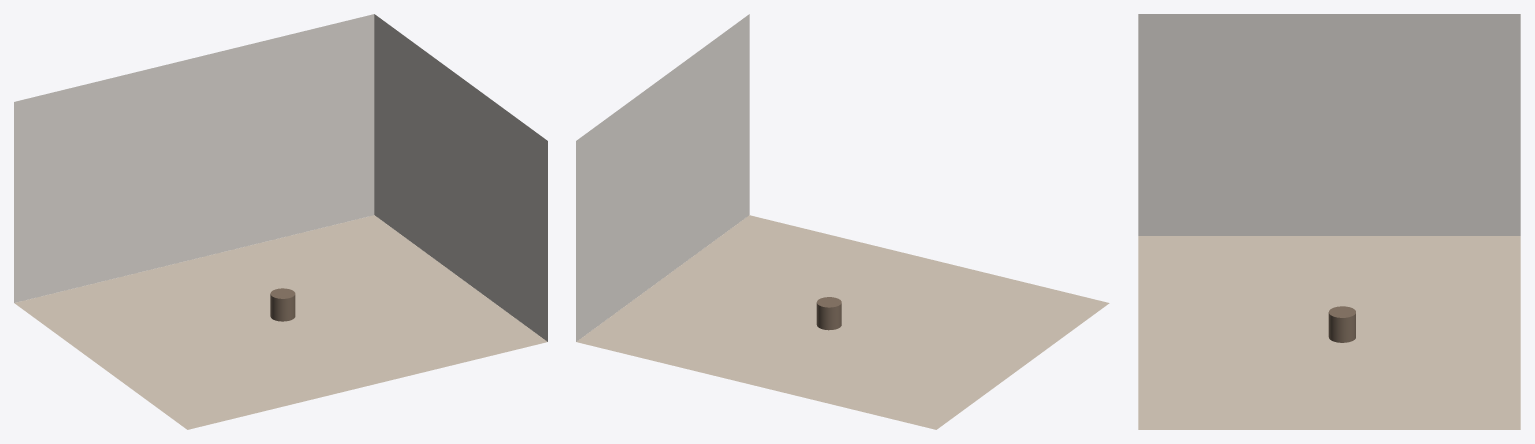
File: forma-cilindro.glb
The picture shows the model from 3 angles, left to right: view 1: azimuth 30°, elevation 25°; view 2: azimuth 150°, elevation 25°; view 3: azimuth 270°, elevation 25°; orthographic projection. The views are drawn at different scales.
Parts seen in each view (by area): view 1: sala, decoracion; view 2: sala, decoracion; view 3: sala, decoracion.
Part boxes in pixels (x1,y1,x2,y2): sala: (14, 14, 547, 429); decoracion: (270, 288, 295, 321); sala: (576, 14, 1109, 429); decoracion: (816, 297, 841, 330); sala: (1138, 14, 1520, 429); decoracion: (1328, 306, 1355, 342).
Size of the model in its own units: 6 by 3.2 by 5.
